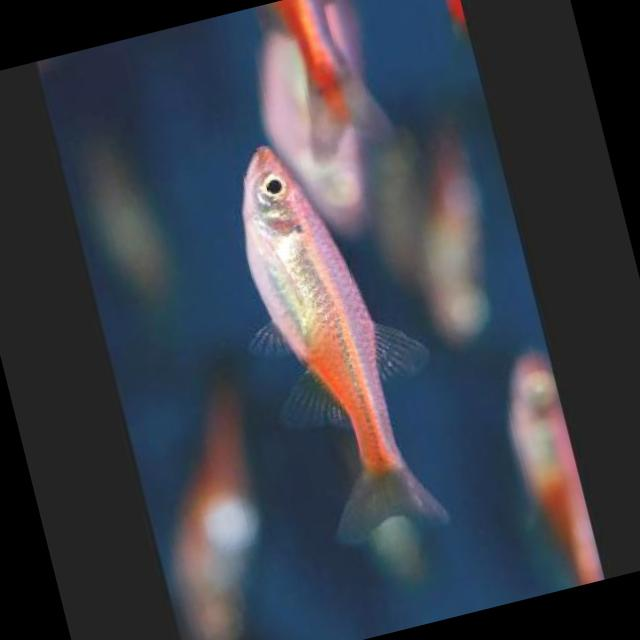ZebraFish: (200, 118, 472, 558)
